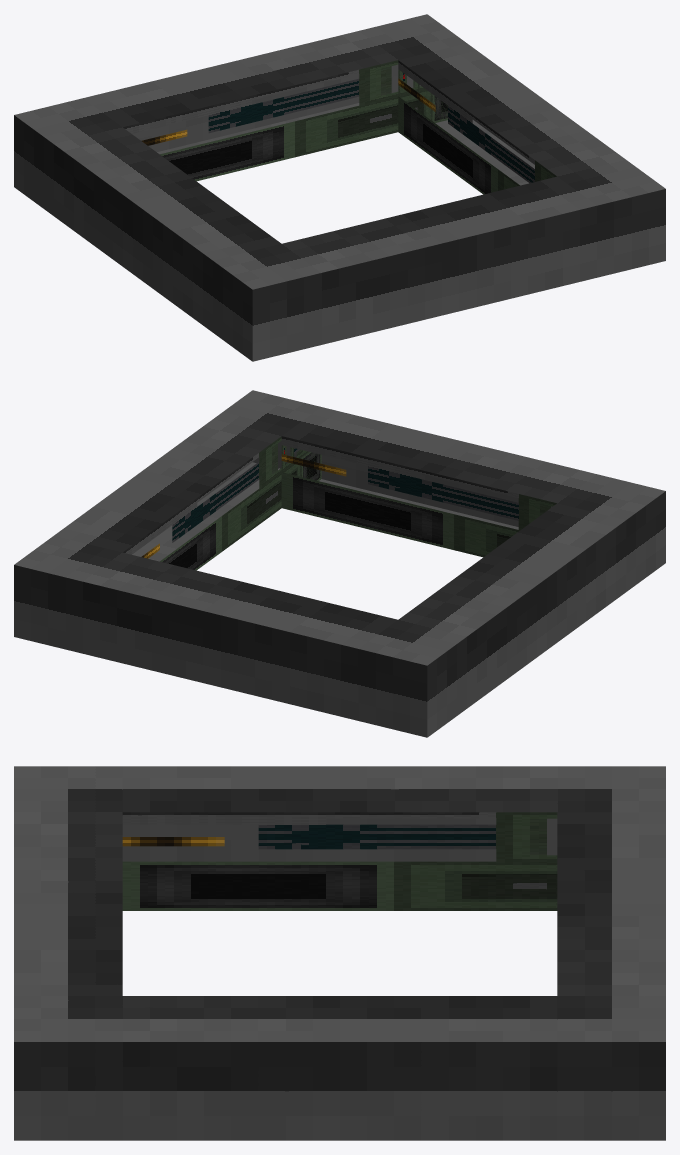
Rendered from engine_glider.obj.
3 renders of one model, top to bottom at view 1: azimuth 30°, elevation 25°; view 2: azimuth 150°, elevation 25°; view 3: azimuth 270°, elevation 25°, orthographic. The views are drawn at different scales.
Parts seen in each view (by area): view 1: glider; view 2: glider; view 3: glider.
Part boxes in pixels (left/top/right/bottom): glider: left=14, top=14, right=665, bottom=361; glider: left=14, top=390, right=665, bottom=737; glider: left=14, top=766, right=665, bottom=1140.
Bounding box in the file's own units: 0.7467 × 0.1244 × 0.7467.
